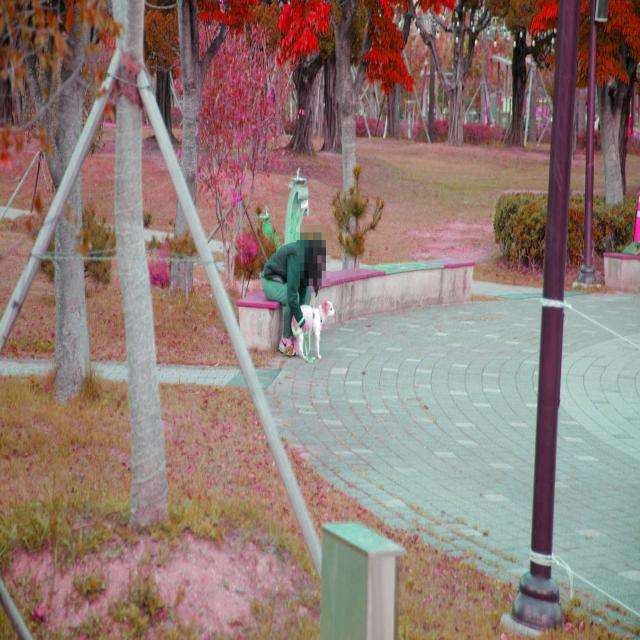Leashed_Dog: (279, 290, 336, 362)
